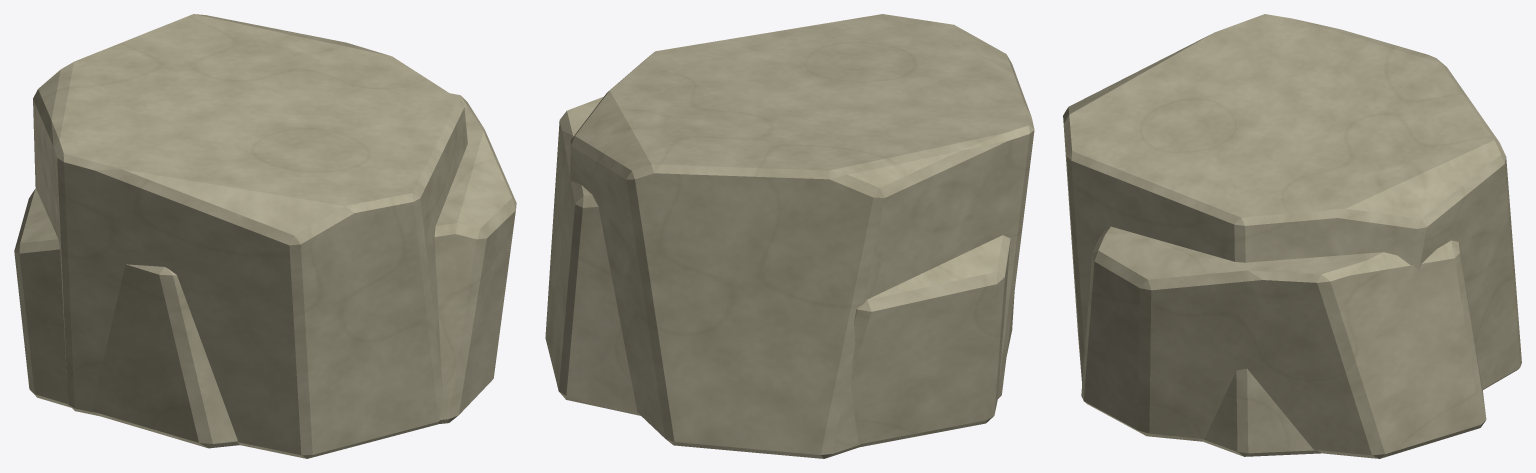
The model's file is field-boulders-v04.glb.
The picture shows the model from 3 angles, left to right: view 1: azimuth 30°, elevation 25°; view 2: azimuth 150°, elevation 25°; view 3: azimuth 270°, elevation 25°; orthographic projection. The views are drawn at different scales.
Parts seen in each view (by area): view 1: field_rock_0, field_rock_1; view 2: field_rock_0, field_rock_1; view 3: field_rock_0, field_rock_1.
Boxes of the visible parts, left/top/right/bottom form: field_rock_0: left=33, top=14, right=467, bottom=458; field_rock_1: left=14, top=93, right=516, bottom=448; field_rock_0: left=570, top=14, right=1034, bottom=458; field_rock_1: left=545, top=96, right=1014, bottom=446; field_rock_0: left=1063, top=14, right=1521, bottom=456; field_rock_1: left=1081, top=226, right=1486, bottom=458.
Size of the model in its own units: 0.9535 by 0.56 by 0.9093.
Materials: 1 (1 with a texture image).
